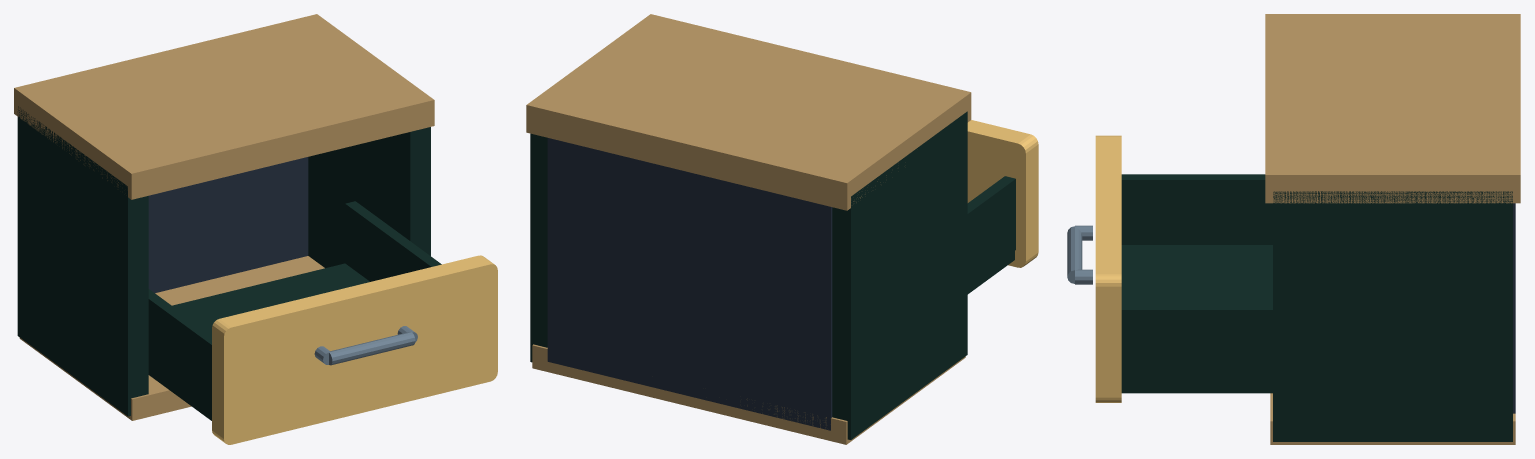
The model's file is drawer.glb.
3 renders of one model, left to right at view 1: azimuth 30°, elevation 25°; view 2: azimuth 150°, elevation 25°; view 3: azimuth 270°, elevation 25°, orthographic. The views are drawn at different scales.
Visible parts, largest first — view 1: top, drawer front, side -0.68, back, side 0.68, tray, tray side -0.59, tray side 0.59, bottom, drawer grip1; view 2: back, top, side -0.68, drawer front, bottom, tray side -0.59, side 0.68; view 3: side 0.68, top, tray side 0.59, tray, tray side -0.59, drawer front, bottom, drawer grip1, back.
Boxes of the visible parts, x1,y1,x2,y2 form: top: [14, 14, 434, 199]; drawer front: [212, 255, 497, 444]; side -0.68: [17, 106, 148, 416]; back: [148, 157, 308, 292]; side 0.68: [308, 127, 430, 268]; tray: [148, 263, 369, 420]; tray side -0.59: [148, 289, 211, 411]; tray side 0.59: [345, 201, 441, 281]; bottom: [19, 256, 324, 420]; drawer grip1: [329, 332, 415, 365]; back: [547, 138, 832, 430]; top: [526, 14, 971, 210]; side -0.68: [832, 111, 967, 439]; drawer front: [967, 120, 1038, 267]; bottom: [532, 344, 965, 444]; tray side -0.59: [967, 176, 1015, 284]; side 0.68: [530, 133, 547, 362]; side 0.68: [1273, 191, 1512, 441]; top: [1265, 14, 1520, 203]; tray side 0.59: [1121, 304, 1272, 383]; tray: [1121, 245, 1272, 393]; tray side -0.59: [1121, 174, 1272, 244]; drawer front: [1095, 135, 1121, 402]; bottom: [1270, 393, 1515, 444]; drawer grip1: [1067, 226, 1082, 283]; back: [1513, 203, 1515, 413].
Size of the model in its own units: 1.46 by 1.15 by 1.74.
